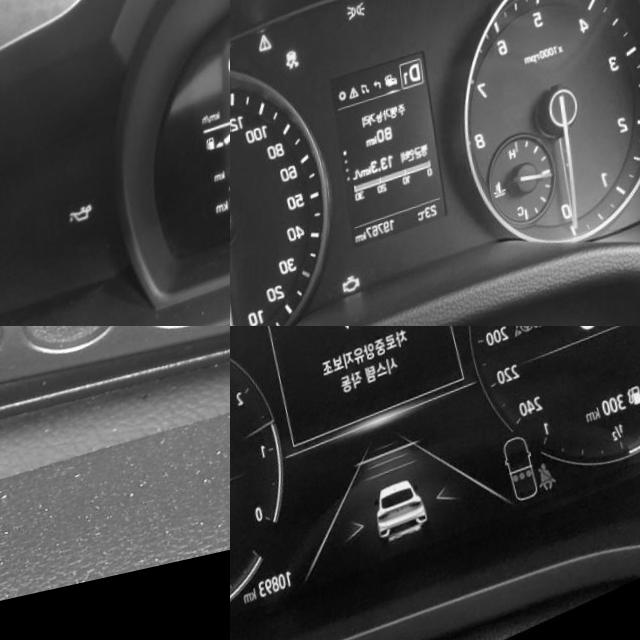Central Warning lamp: (258, 40, 273, 61)
SideLamp: (346, 12, 366, 34)
